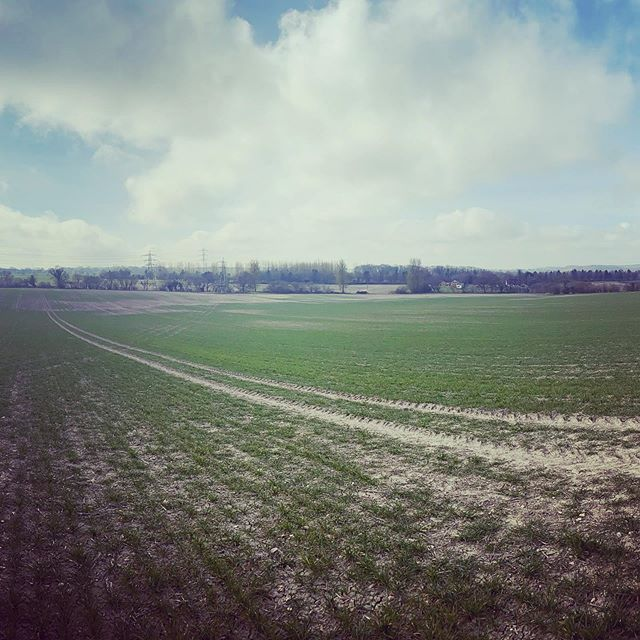grass: (10, 302, 640, 640)
sky: (1, 1, 639, 256)
